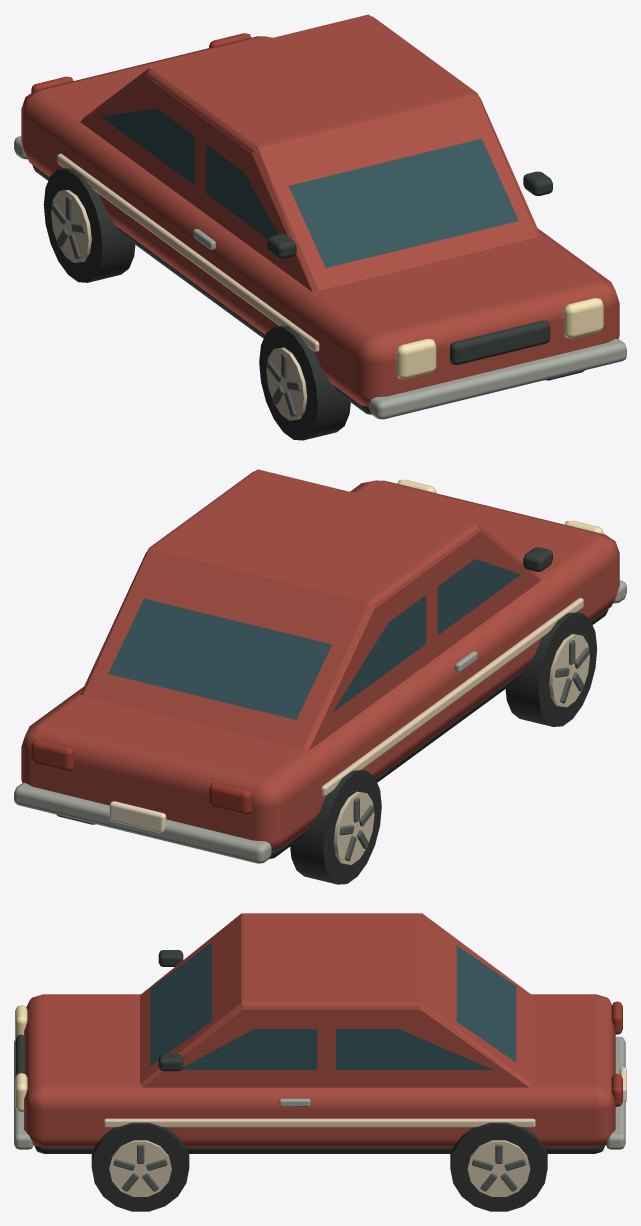
The model's file is vehicle-saloon.glb.
3 views of the same model, one above another, from view 1: azimuth 30°, elevation 25°; view 2: azimuth 150°, elevation 25°; view 3: azimuth 270°, elevation 25° (orthographic). The views are drawn at different scales.
Parts seen in each view (by area): view 1: Harbor vehicle saloon, wheel--1-1, wheel--1--1; view 2: Harbor vehicle saloon, wheel--1--1, wheel--1-1; view 3: Harbor vehicle saloon, wheel-1-1, wheel-1--1.
Part boxes in pixels (<box>): Harbor vehicle saloon: <box>14,14,626,419</box>; wheel--1-1: <box>259,325,350,440</box>; wheel--1--1: <box>43,168,135,282</box>; Harbor vehicle saloon: <box>14,469,626,863</box>; wheel--1--1: <box>290,770,381,884</box>; wheel--1-1: <box>505,612,597,726</box>; Harbor vehicle saloon: <box>14,913,626,1153</box>; wheel-1-1: <box>91,1122,189,1211</box>; wheel-1--1: <box>450,1122,547,1211</box>.
Size of the model in its own units: 1.95 by 1.52 by 4.27.
